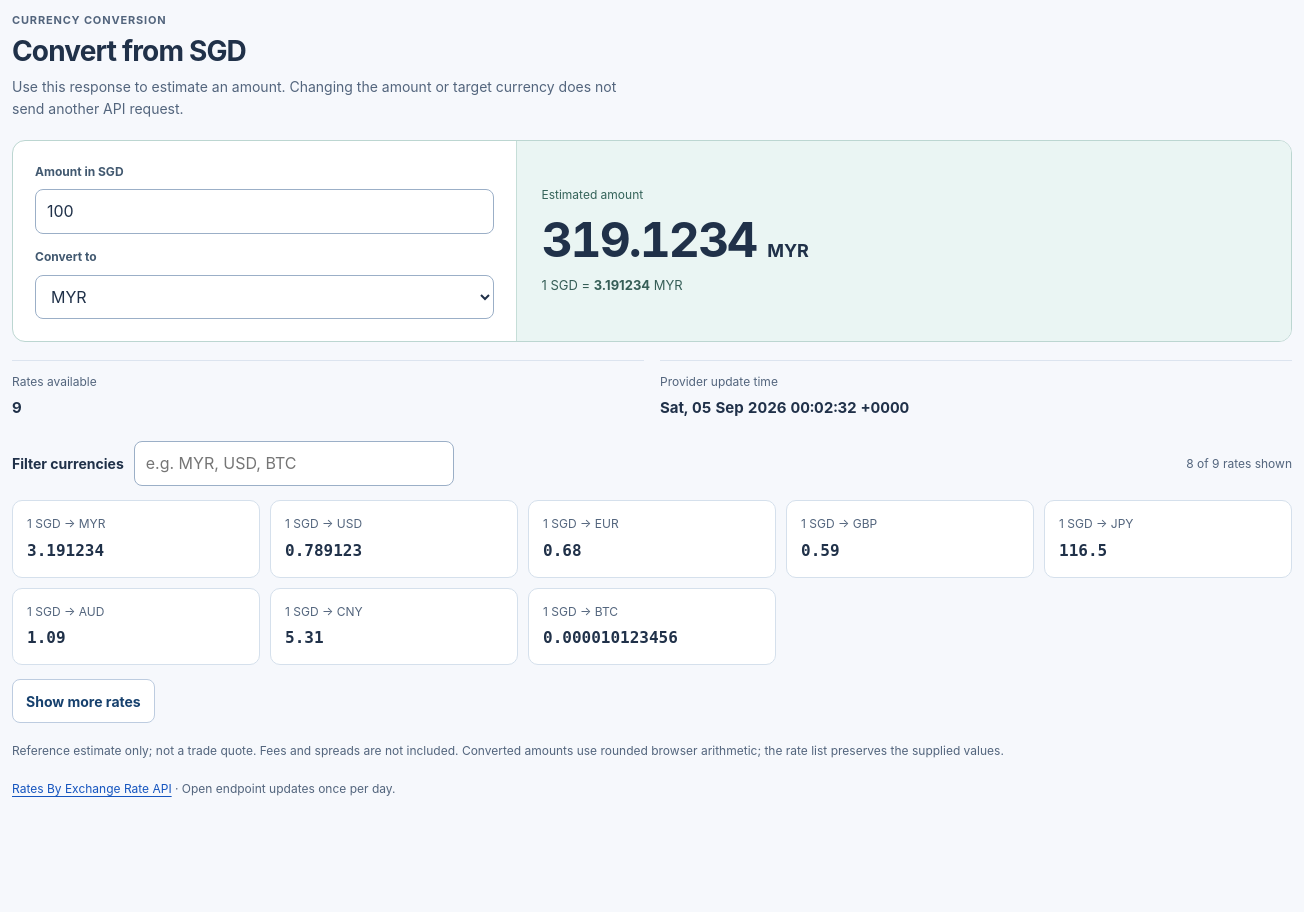
Test: currency conversion cards › makes currencies beyond the first eight accessible through filtering and show-more
Click the button "Show more rates" at (83, 701), box [12, 679, 155, 723]
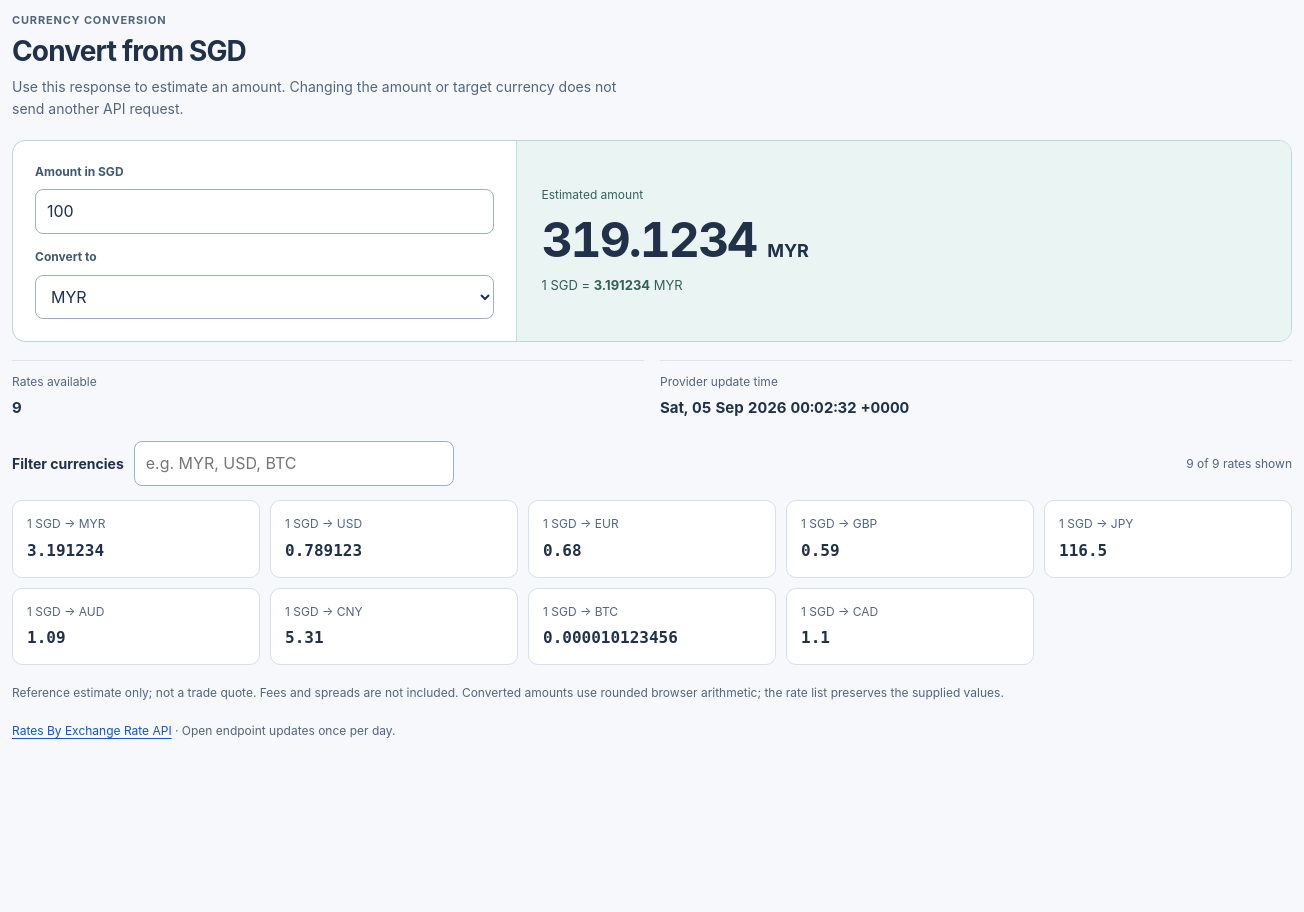
Check: the number of list items is 9
Type "btc" into the search field labelled "Filter currencies" at (294, 464), box [134, 441, 454, 486]
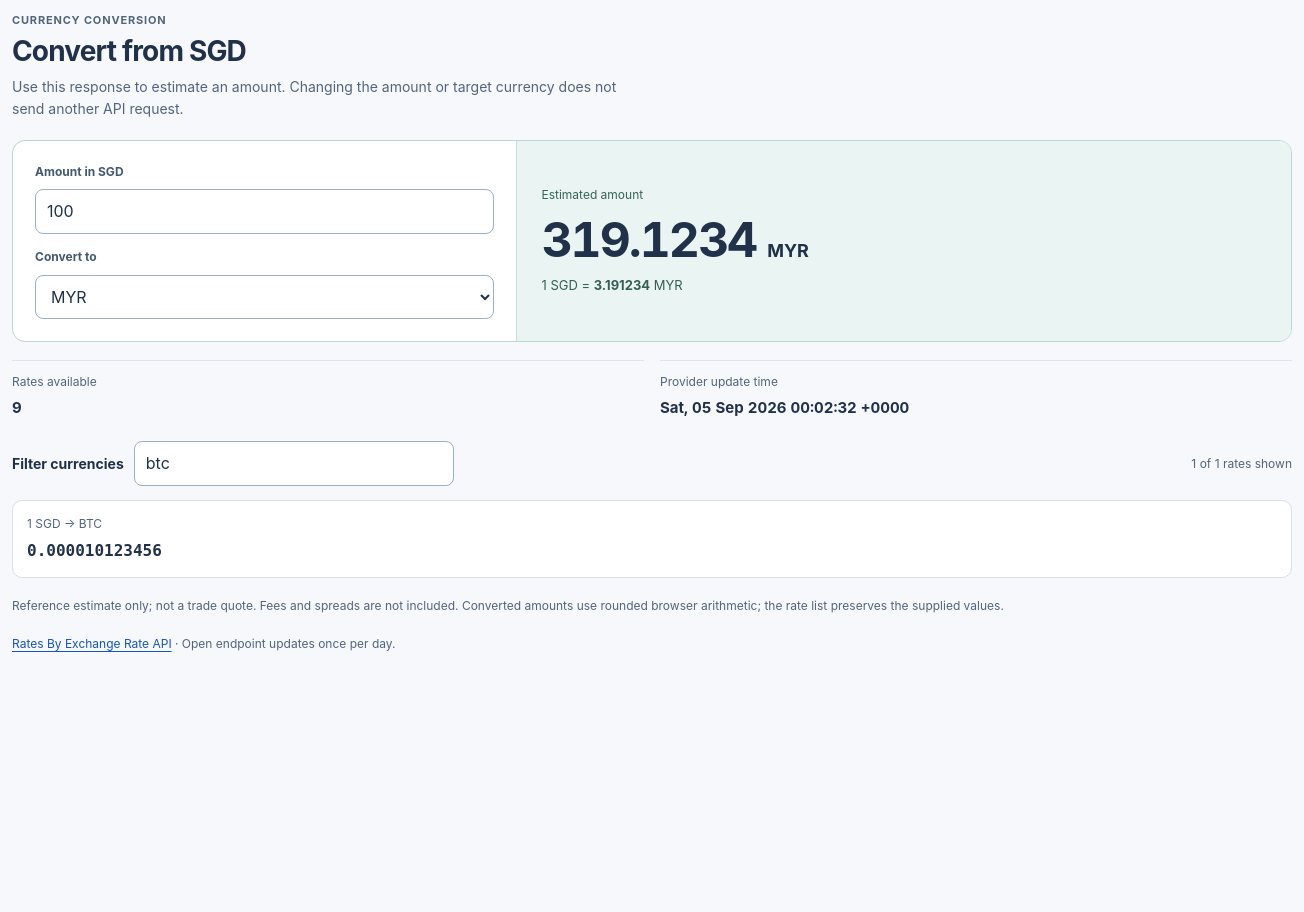
Check: the list named "Exchange rates from this response" shows "0.000010123456", box [27, 541, 162, 560]
Check: the number of list items is 1, box [12, 500, 1292, 578]
Replace the text in the search field labelled "Filter currencies" with "nonexistent" at (294, 464), box [134, 441, 454, 486]
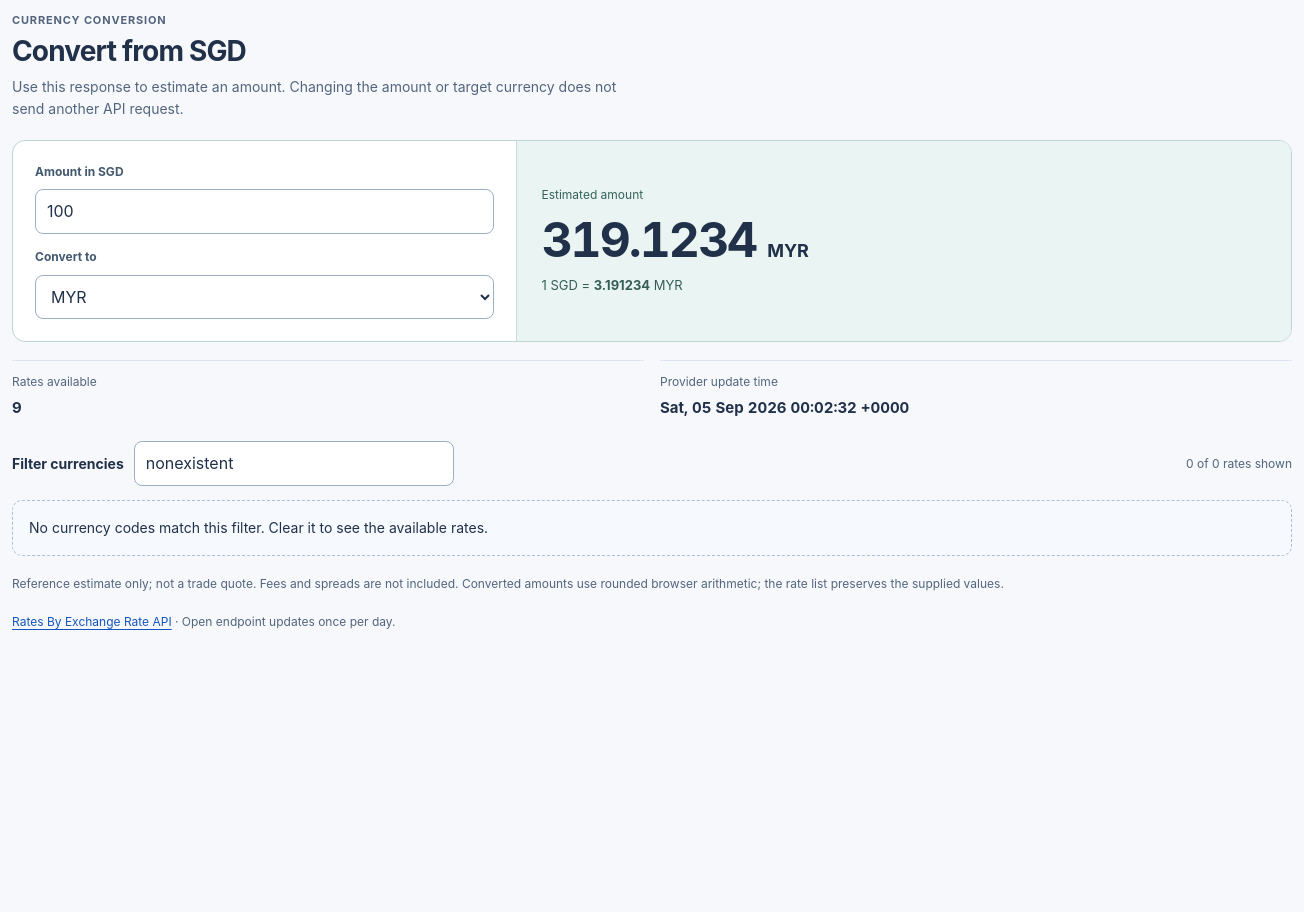
Check: the text "No currency codes match" is shown, box [29, 519, 488, 536]
Check: the message reads "0 of 0 rates shown", box [1186, 454, 1292, 473]
